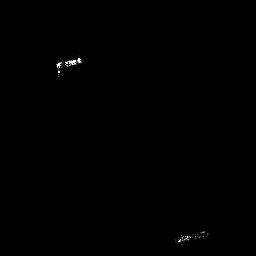ship: (56, 57, 83, 70)
